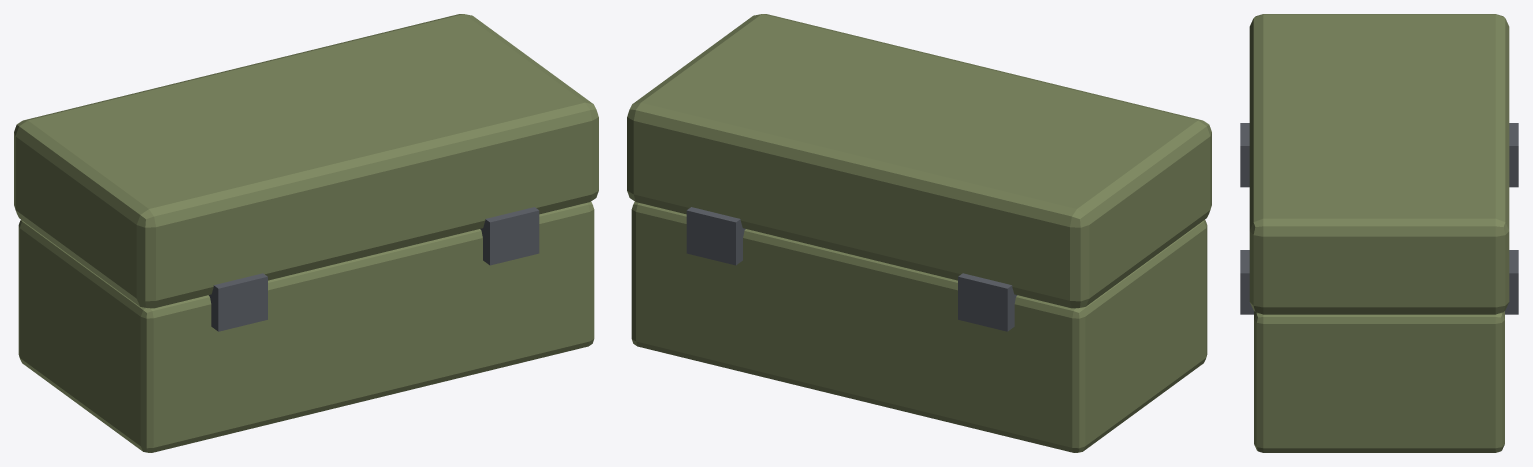
File: case.glb
3 renders of one model, left to right at view 1: azimuth 30°, elevation 25°; view 2: azimuth 150°, elevation 25°; view 3: azimuth 270°, elevation 25°, orthographic. The views are drawn at different scales.
Visible parts, largest first — view 1: case; view 2: case; view 3: case.
Part boxes in pixels (left/top/right/bottom): case: left=14, top=14, right=598, bottom=452; case: left=627, top=14, right=1211, bottom=452; case: left=1240, top=14, right=1518, bottom=452.
Size of the model in its own units: 1.12 by 0.5665 by 0.61.
